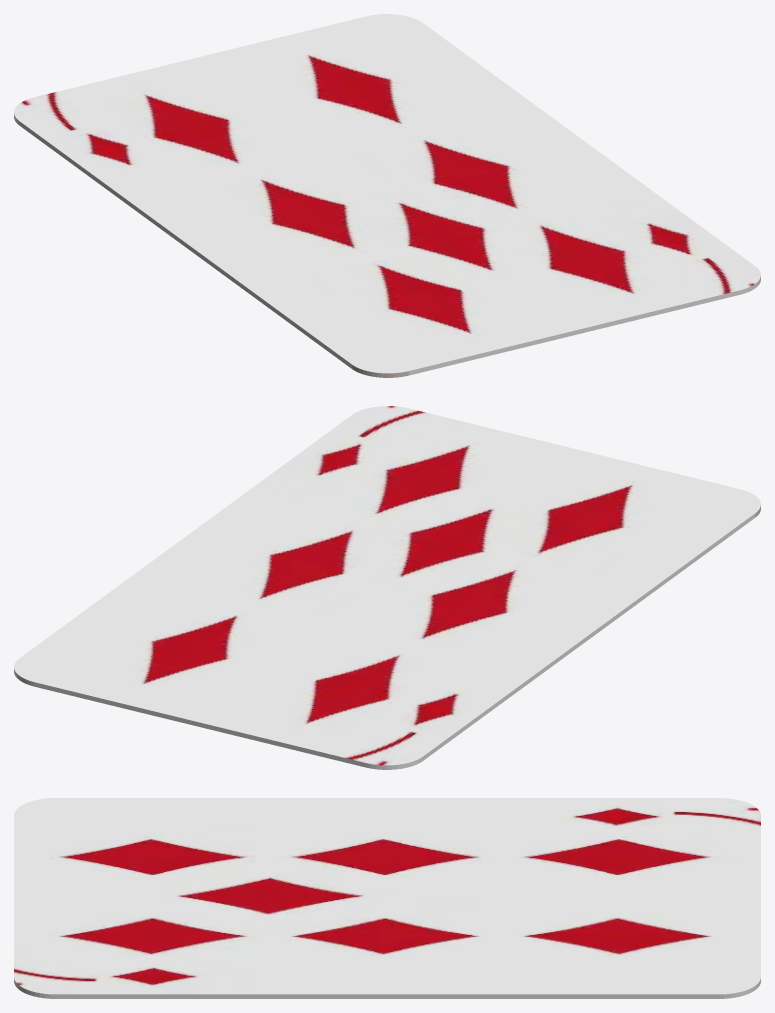
Rendered from 7 of diamonds card.fbx.
The picture shows the model from 3 angles, top to bottom: view 1: azimuth 30°, elevation 25°; view 2: azimuth 150°, elevation 25°; view 3: azimuth 270°, elevation 25°; orthographic projection.
Visible parts, largest first — view 1: Cube; view 2: Cube; view 3: Cube.
Part boxes in pixels (x1,y1,x2,y2): Cube: (14, 14, 760, 377); Cube: (14, 406, 760, 769); Cube: (14, 798, 760, 998).
Size of the model in its own units: 5.6 by 0.06 by 9.
Materials: 3 (2 with a texture image).
